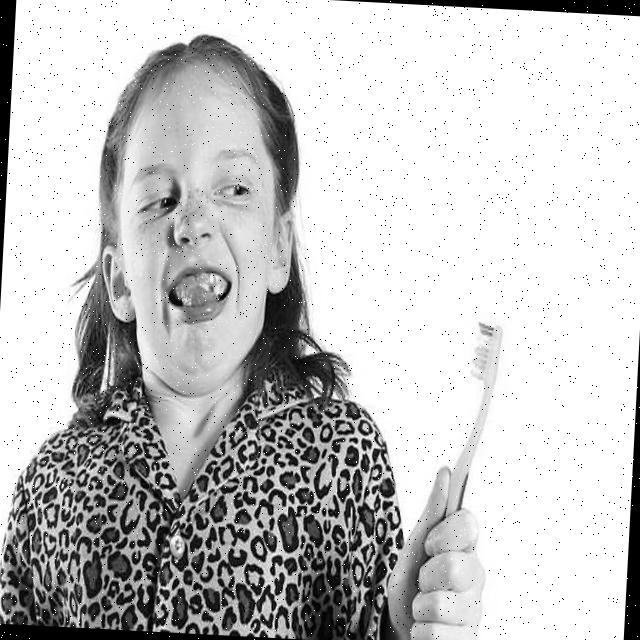Disgust: (109, 68, 281, 401)
